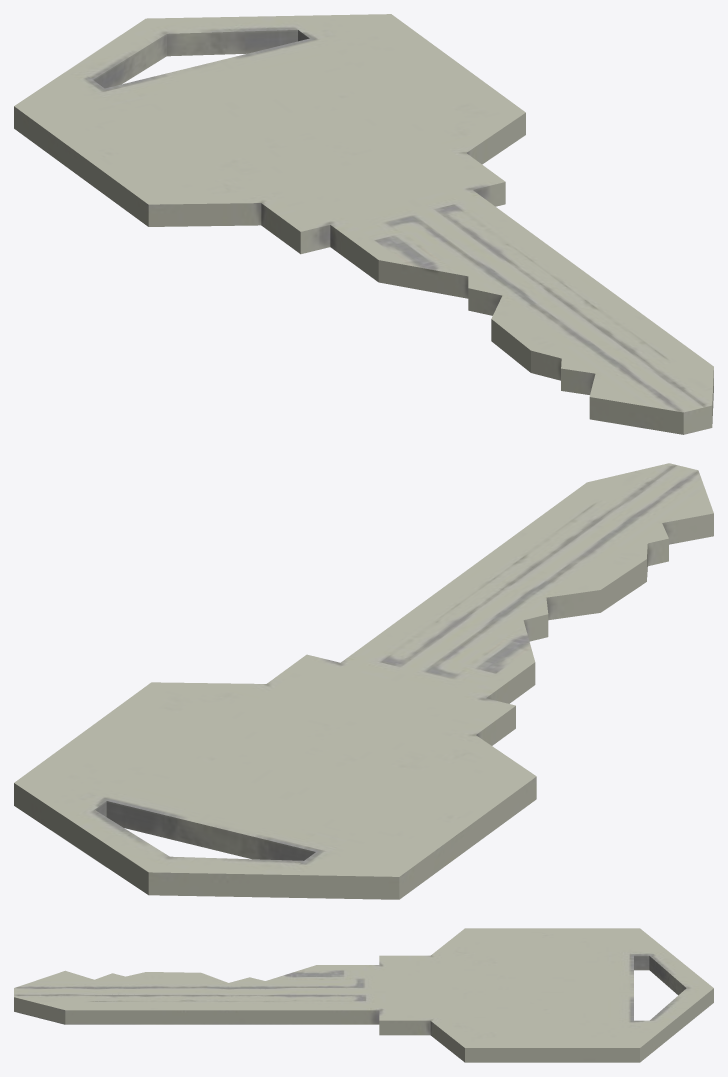
Rendered from grandma_roomkey.fbx.
3 renders of one model, top to bottom at view 1: azimuth 30°, elevation 25°; view 2: azimuth 150°, elevation 25°; view 3: azimuth 270°, elevation 25°, orthographic. The views are drawn at different scales.
Parts seen in each view (by area): view 1: key; view 2: key; view 3: key.
Boxes of the visible parts, left/top/right/bottom form: key: left=14, top=14, right=713, bottom=434; key: left=14, top=463, right=713, bottom=899; key: left=14, top=928, right=713, bottom=1062.
Size of the model in its own units: 2.28 by 0.1293 by 5.63.
Materials: 1 (1 with a texture image).
